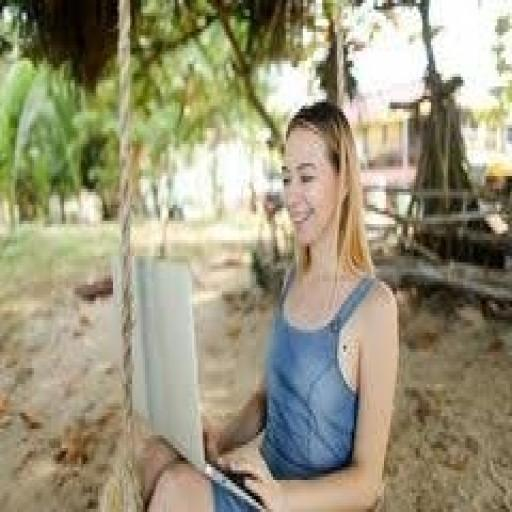using_laptop: (128, 250, 267, 508)
